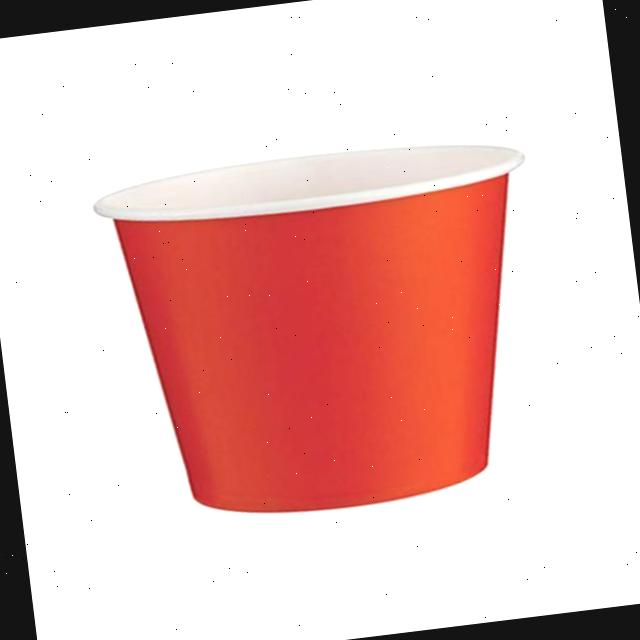trash: (108, 124, 580, 540)
